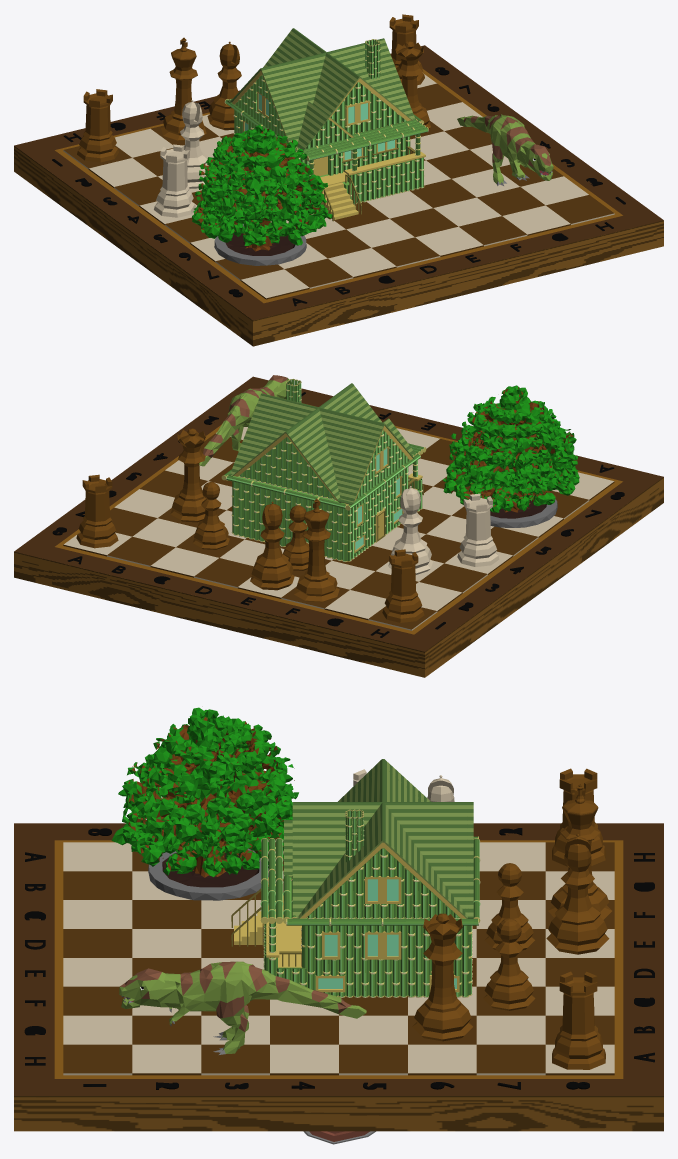
3 renders of one model, top to bottom at view 1: azimuth 30°, elevation 25°; view 2: azimuth 150°, elevation 25°; view 3: azimuth 270°, elevation 25°, orthographic. The views are drawn at different scales.
Visible parts, largest first — view 1: Cube.002, Cube.1327, OBJRANDOM_CEIBA, ANIMAL_TREX; view 2: Cube.002, Cube.1327, OBJRANDOM_CEIBA, ANIMAL_TREX; view 3: Cube.002, Cube.1327, OBJRANDOM_CEIBA, ANIMAL_TREX, UNDERGROUND_TREASURE.
Part boxes in pixels (box(x1,y1,x2,y2)): Cube.002: box(14, 14, 663, 346); Cube.1327: box(224, 28, 428, 221); OBJRANDOM_CEIBA: box(192, 124, 332, 265); ANIMAL_TREX: box(457, 114, 553, 185); Cube.002: box(14, 376, 663, 677); Cube.1327: box(221, 378, 426, 561); OBJRANDOM_CEIBA: box(442, 385, 579, 527); ANIMAL_TREX: box(199, 375, 291, 466); Cube.002: box(14, 768, 663, 1131); Cube.1327: box(231, 759, 480, 997); OBJRANDOM_CEIBA: box(111, 707, 298, 900); ANIMAL_TREX: box(119, 961, 366, 1054); UNDERGROUND_TREASURE: box(303, 1131, 375, 1144).
Bounding box in the file's own units: 3981 × 2209 × 4012.
Materials: 30 (3 with a texture image).
